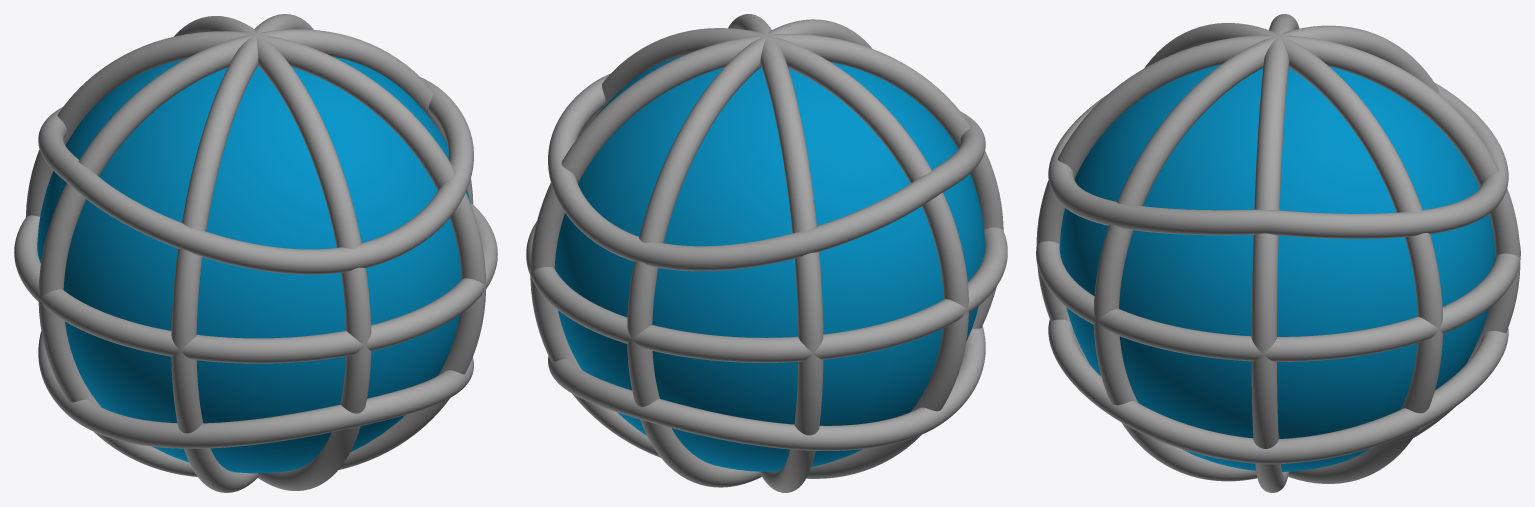
File: browser-3d-animated-icon-1035253339614.glb
The picture shows the model from 3 angles, left to right: view 1: azimuth 30°, elevation 25°; view 2: azimuth 150°, elevation 25°; view 3: azimuth 270°, elevation 25°; orthographic projection.
Parts seen in each view (by area): view 1: Circle.001, Sphere.010; view 2: Circle.001, Sphere.010; view 3: Circle.001, Sphere.010.
Part boxes in pixels (bbox=[...]): Circle.001: bbox=[14, 14, 497, 492]; Sphere.010: bbox=[37, 56, 470, 473]; Circle.001: bbox=[526, 14, 1007, 492]; Sphere.010: bbox=[554, 56, 985, 471]; Circle.001: bbox=[1036, 14, 1520, 492]; Sphere.010: bbox=[1059, 64, 1495, 471].
Bounding box in the file's own units: 1.67 × 1.67 × 1.69.
